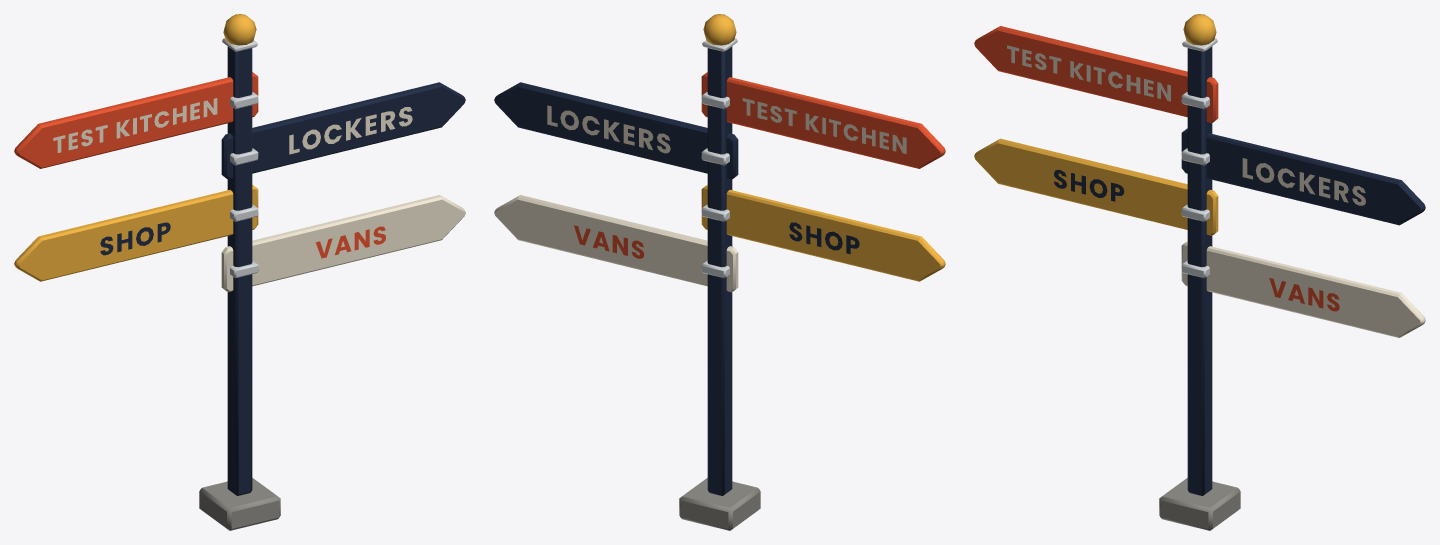
The model's file is Lobby_SignPost.fbx.
3 renders of one model, left to right at view 1: azimuth 30°, elevation 25°; view 2: azimuth 150°, elevation 25°; view 3: azimuth 330°, elevation 25°, orthographic.
Visible parts, largest first — view 1: Post, BoardCream, BoardMustard, BoardNavy, BoardRed, TextCream, Footing, Clamps, Finial, TextNavy, TextRed; view 2: Post, BoardCream, BoardMustard, BoardRed, BoardNavy, Footing, TextCream, Clamps, Finial, TextNavy, TextRed; view 3: Post, BoardCream, BoardMustard, BoardRed, BoardNavy, Footing, TextCream, Clamps, Finial, TextNavy, TextRed.
Boxes of the visible parts, x1,y1,x2,y2 form: Post: (227, 46, 252, 495); BoardCream: (221, 195, 465, 292); BoardMustard: (14, 185, 258, 281); BoardNavy: (221, 82, 465, 179); BoardRed: (14, 72, 258, 168); TextCream: (53, 98, 412, 154); Footing: (199, 478, 280, 530); Clamps: (222, 38, 258, 278); Finial: (223, 14, 256, 45); TextNavy: (100, 222, 170, 255); TextRed: (315, 226, 385, 258); Post: (707, 46, 732, 495); BoardCream: (494, 195, 738, 292); BoardMustard: (701, 185, 945, 281); BoardRed: (701, 72, 945, 168); BoardNavy: (494, 82, 738, 179); Footing: (679, 478, 760, 530); TextCream: (547, 98, 906, 153); Clamps: (701, 38, 737, 278); Finial: (703, 14, 736, 45); TextNavy: (789, 222, 859, 254); TextRed: (574, 225, 644, 258); Post: (1187, 46, 1212, 495); BoardCream: (1181, 241, 1425, 337); BoardMustard: (974, 138, 1218, 235); BoardRed: (974, 26, 1218, 123); BoardNavy: (1181, 128, 1425, 225); Footing: (1159, 478, 1240, 530); TextCream: (1007, 45, 1365, 205); Clamps: (1181, 38, 1217, 278); Finial: (1183, 14, 1216, 45); TextNavy: (1054, 170, 1124, 201); TextRed: (1269, 278, 1339, 311).
Bounding box in the file's own units: 918 × 975 × 110.
